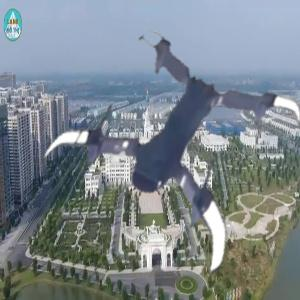drone: (46, 37, 287, 278)
